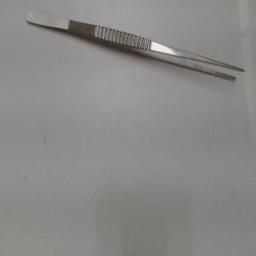DeBakey Dissector: (15, 4, 249, 102)
